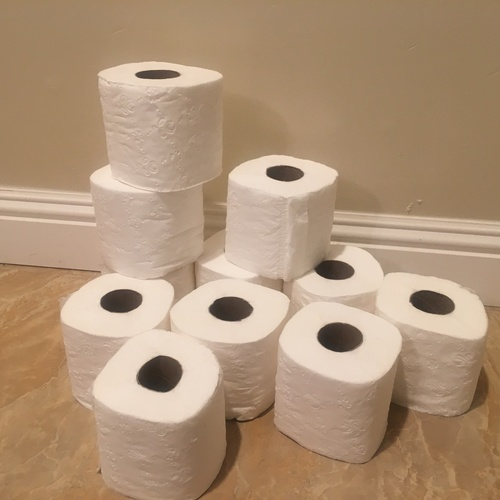roll: (88, 328, 226, 499), (275, 301, 401, 466), (373, 272, 488, 423), (170, 278, 290, 422), (93, 63, 226, 191), (59, 274, 174, 407), (225, 154, 340, 283), (86, 159, 205, 280), (281, 242, 384, 318), (195, 224, 284, 300)
